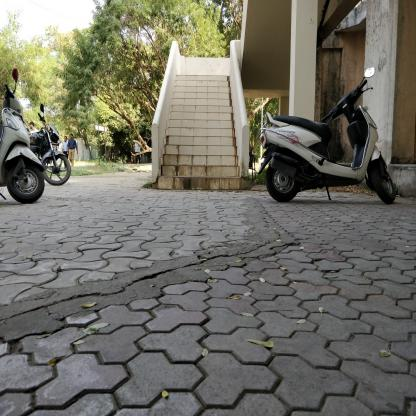stairs: (179, 72, 229, 198)
